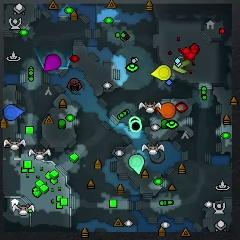p1: (4, 104, 24, 121)
p2: (130, 154, 144, 174)
p2Clone: (130, 120, 142, 133), (128, 116, 140, 125)
p3: (44, 54, 61, 71)
p4: (152, 65, 171, 81)
p5: (156, 102, 176, 119)
x2: (172, 56, 190, 73)
